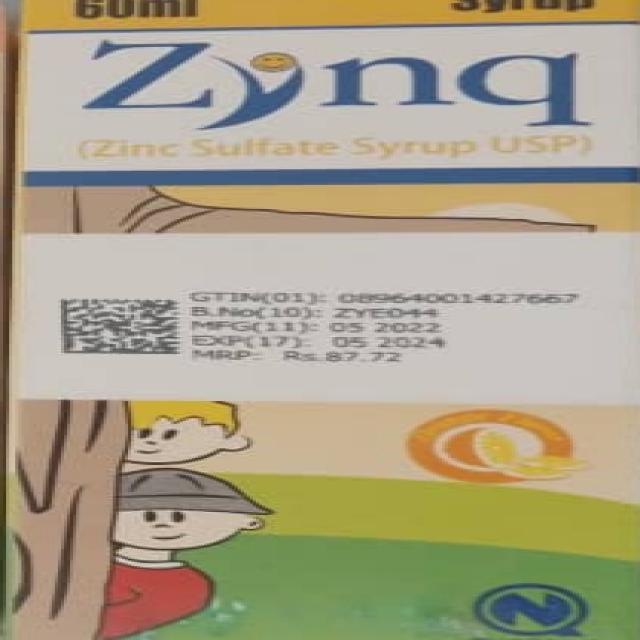drug-name: (68, 37, 593, 131)
